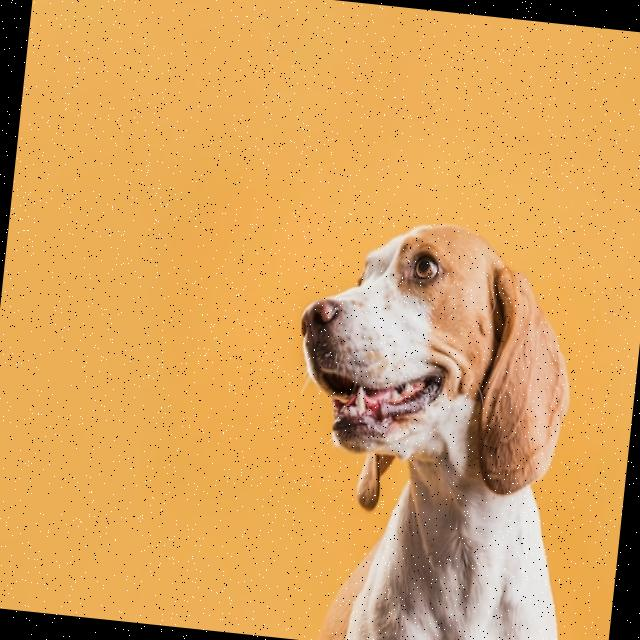Dog: (267, 210, 601, 640)
